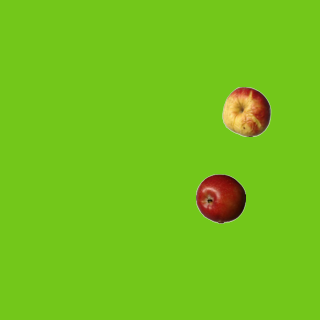Apple Braeburn: (195, 173, 245, 223)
Apple Red Yellow 1: (221, 86, 271, 136)
